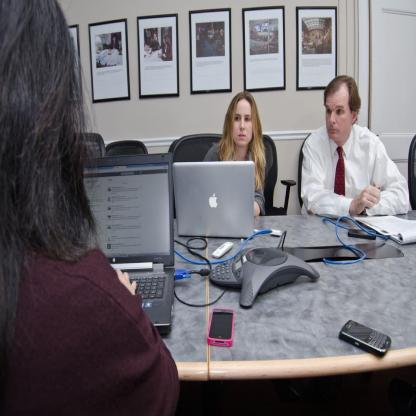board: (80, 153, 176, 337), (166, 158, 268, 252)
